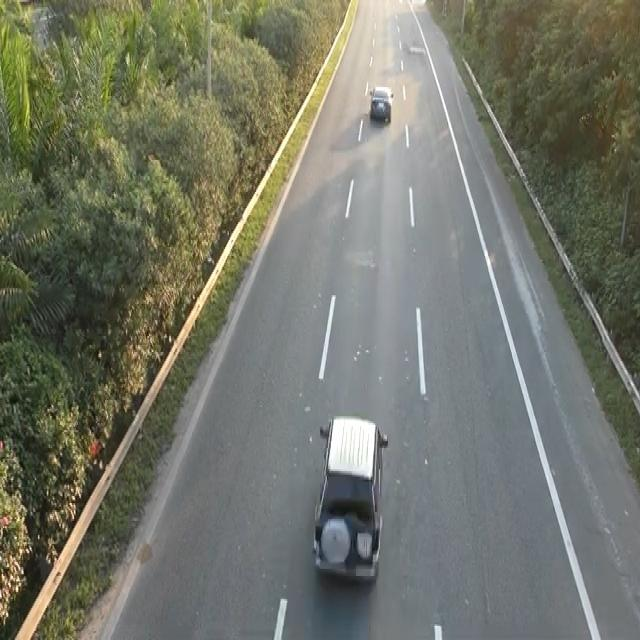car: (310, 409, 389, 585)
